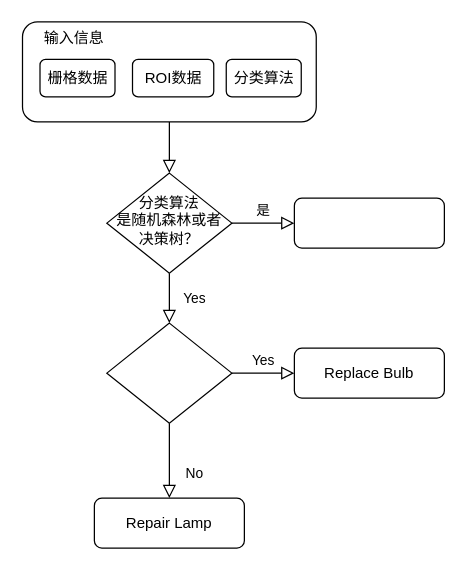
Image size: 466x570. Some labels were removed from this diagram. The box of each missing label's shape, as (x1, y1, x2, y2) in pixels:
Bulb burned out?: (106, 322, 232, 423)
geotrellis+spark: (293, 197, 444, 248)
